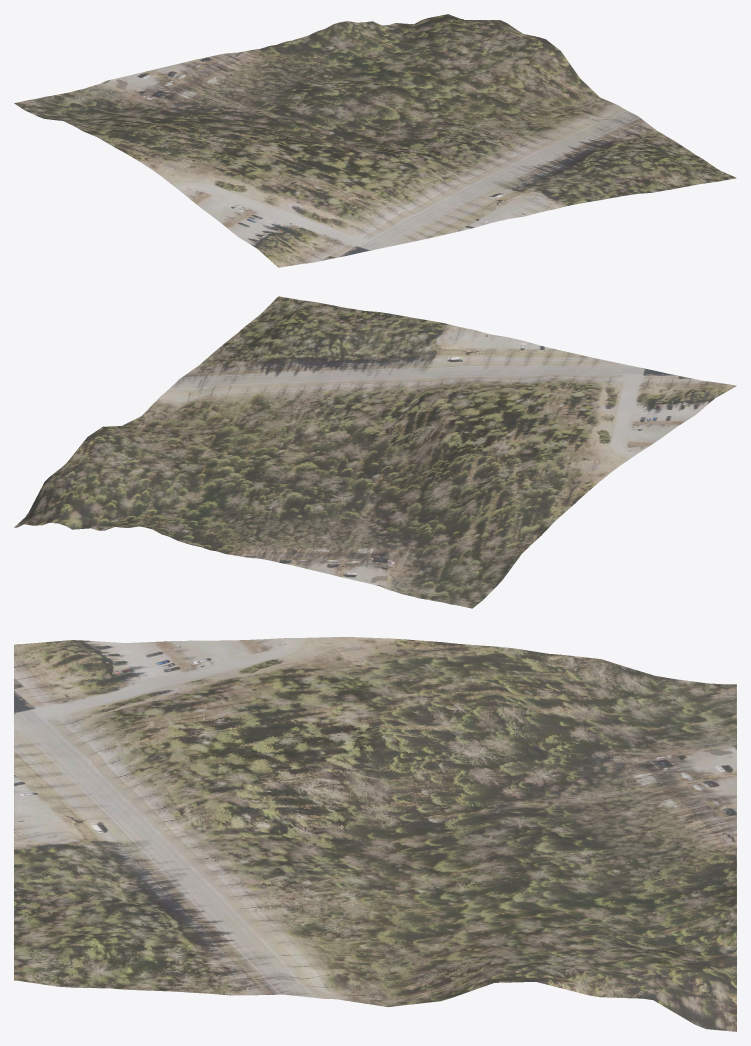
File: CM_Terrain_24492711_6815493.fbx
3 renders of one model, top to bottom at view 1: azimuth 30°, elevation 25°; view 2: azimuth 150°, elevation 25°; view 3: azimuth 270°, elevation 25°, orthographic. The views are drawn at different scales.
Parts seen in each view (by area): view 1: CM_Terrain_24492711_6815493_LOD0; view 2: CM_Terrain_24492711_6815493_LOD0; view 3: CM_Terrain_24492711_6815493_LOD0.
Boxes of the visible parts, bbox=[...] form: CM_Terrain_24492711_6815493_LOD0: bbox=[14, 14, 736, 267]; CM_Terrain_24492711_6815493_LOD0: bbox=[14, 296, 736, 608]; CM_Terrain_24492711_6815493_LOD0: bbox=[14, 637, 736, 1031].
Size of what is drawn, in the model's own units: 205 by 28.49 by 205.
